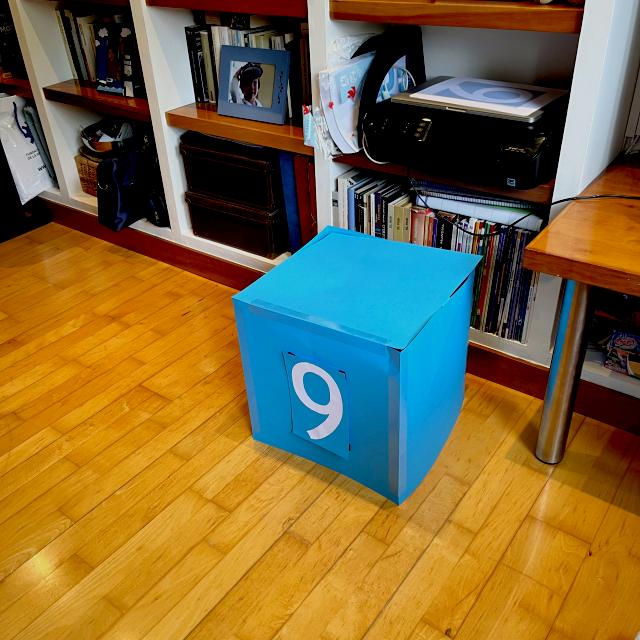box: (226, 221, 487, 507)
